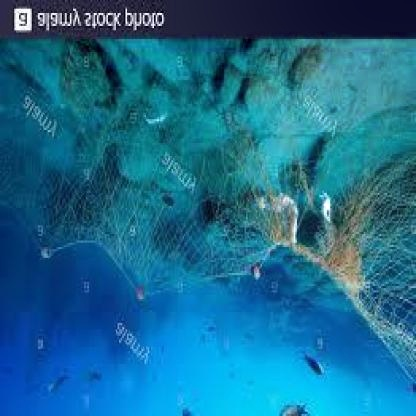net: (0, 94, 293, 305), (317, 132, 416, 413)
